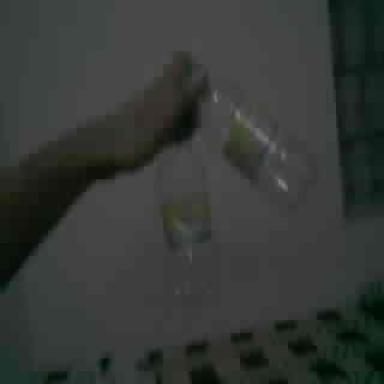bottle: (157, 77, 316, 298)
